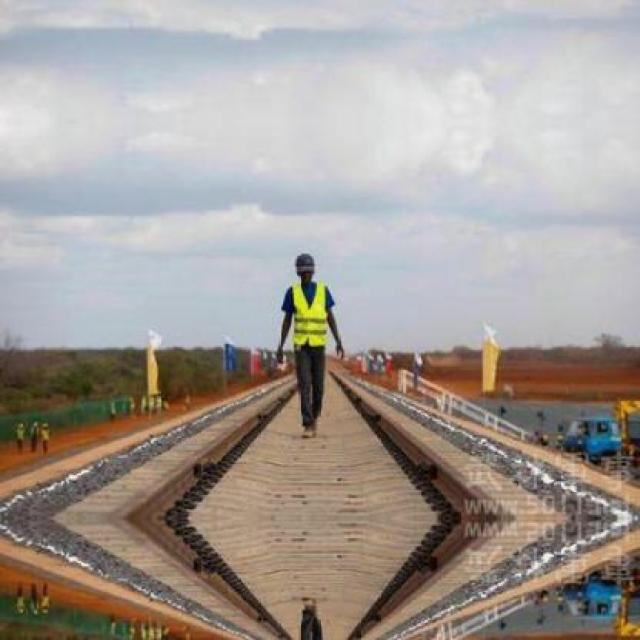helmet: (291, 248, 318, 284)
